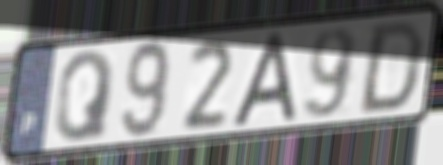2: (182, 36, 236, 134)
9: (300, 25, 363, 121), (118, 37, 173, 144)
A: (227, 28, 300, 131)
D: (354, 17, 428, 117)
Q: (52, 47, 117, 146)
